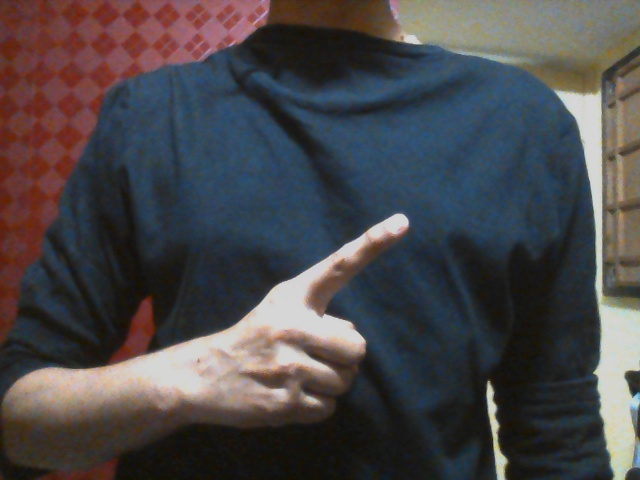I: (210, 212, 414, 432)
